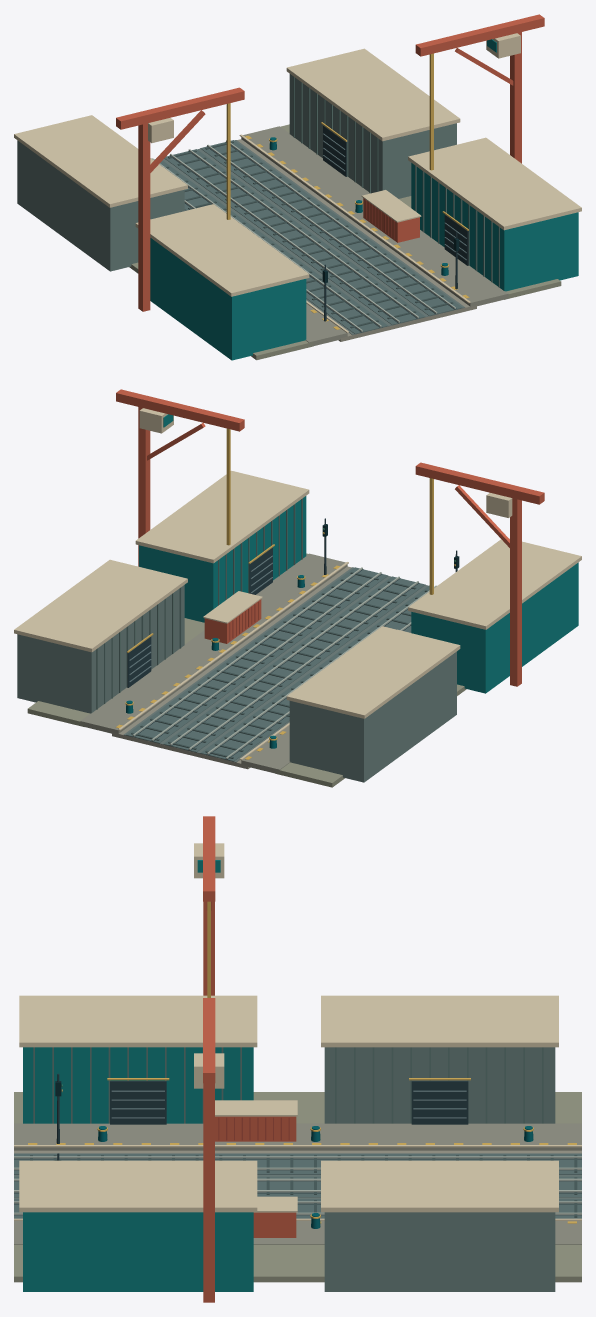
Rendered from waterfront-1.glb.
The picture shows the model from 3 angles, top to bottom: view 1: azimuth 30°, elevation 25°; view 2: azimuth 150°, elevation 25°; view 3: azimuth 270°, elevation 25°; orthographic projection. The views are drawn at different scales.
Parts seen in each view (by area): view 1: city-waterfront-1; view 2: city-waterfront-1; view 3: city-waterfront-1.
Boxes of the visible parts, x1,y1,x2,y2 form: city-waterfront-1: (14, 14, 581, 360); city-waterfront-1: (14, 389, 581, 787); city-waterfront-1: (14, 816, 581, 1302).
Bounding box in the file's own units: 34.2 × 15.43 × 32.
